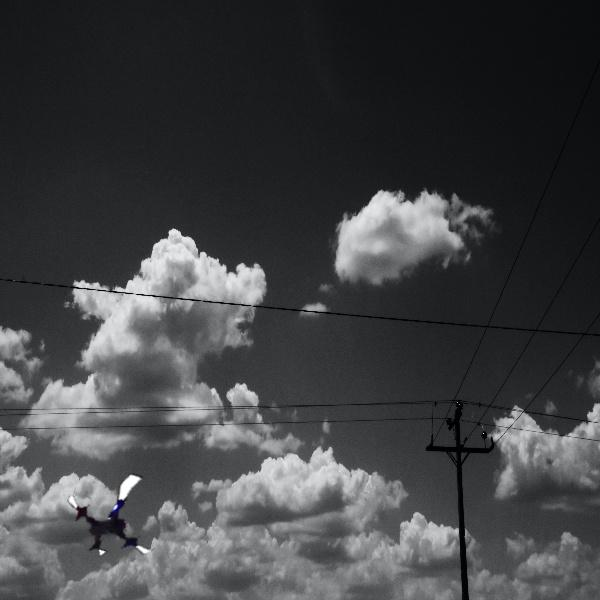drone: (70, 464, 175, 569)
